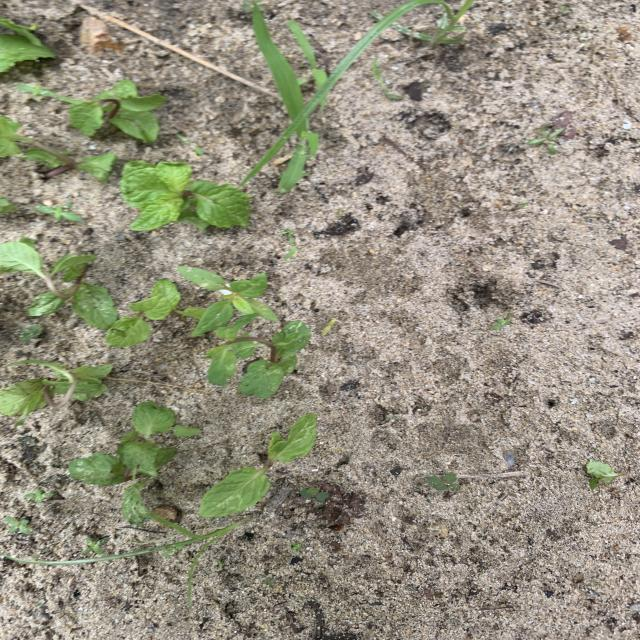crop: (69, 402, 176, 524), (201, 414, 315, 515), (1, 239, 117, 328), (122, 162, 250, 230), (205, 319, 309, 397), (56, 80, 167, 142), (0, 361, 112, 419), (106, 280, 180, 347), (1, 18, 55, 71), (25, 149, 115, 180), (1, 116, 30, 156), (586, 462, 625, 487)
weed: (245, 0, 446, 190), (5, 512, 247, 610), (179, 266, 277, 336), (287, 20, 327, 89), (418, 1, 475, 47), (527, 127, 562, 153), (36, 203, 83, 221), (428, 473, 461, 490), (178, 135, 203, 154), (300, 487, 328, 502), (7, 517, 31, 534), (84, 537, 105, 554), (25, 490, 53, 502), (20, 325, 43, 339), (493, 312, 511, 328), (281, 229, 295, 242), (323, 319, 335, 333), (285, 247, 297, 258), (8, 479, 19, 486), (264, 578, 275, 583), (292, 544, 301, 550)
